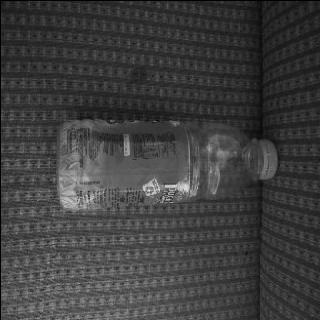plastic_bottles: (52, 112, 294, 216)
